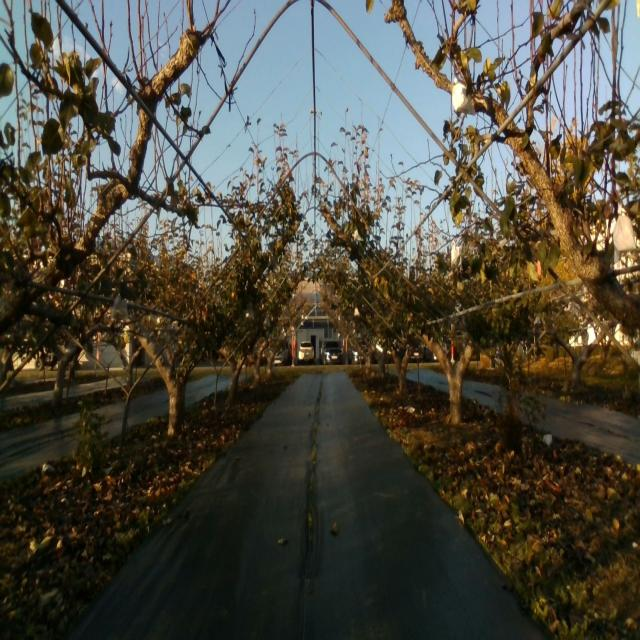pearbags: (613, 213, 637, 264), (452, 77, 475, 117), (111, 296, 129, 321), (451, 242, 462, 266)
